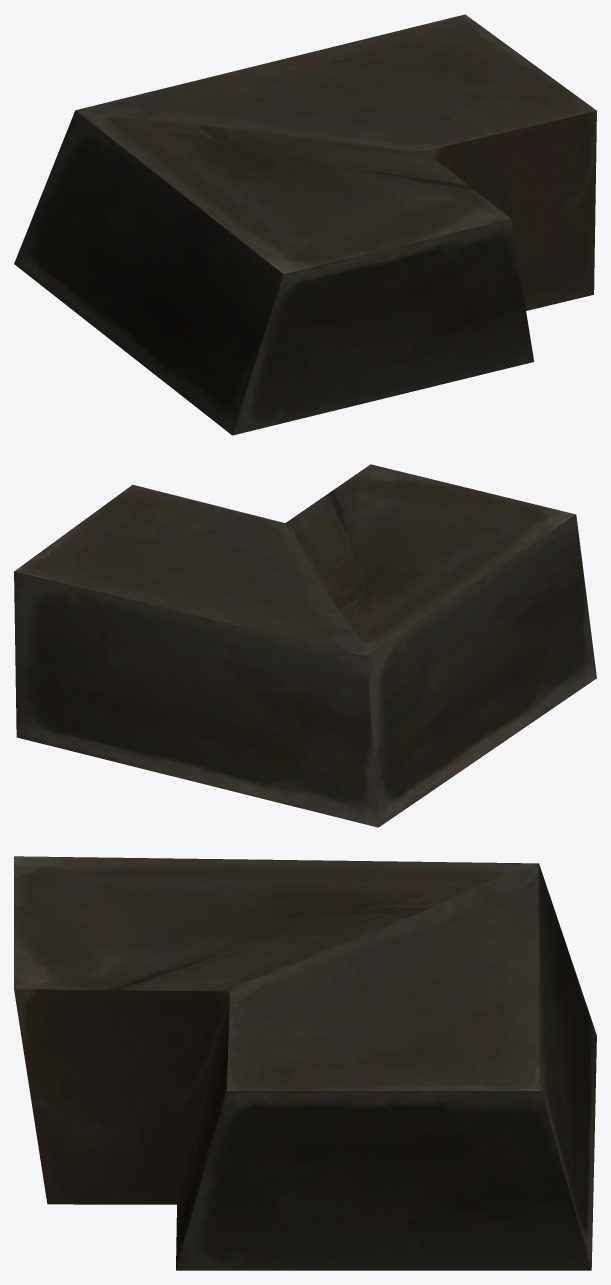
Rendered from fortress_cap_convex_02.fbx.
The picture shows the model from 3 angles, top to bottom: view 1: azimuth 30°, elevation 25°; view 2: azimuth 150°, elevation 25°; view 3: azimuth 270°, elevation 25°; orthographic projection. The views are drawn at different scales.
Parts seen in each view (by area): view 1: fortress_tileset/Cap_01_mat; view 2: fortress_tileset/Cap_01_mat; view 3: fortress_tileset/Cap_01_mat.
Boxes of the visible parts, left/top/right/bottom form: fortress_tileset/Cap_01_mat: left=14, top=14, right=596, bottom=435; fortress_tileset/Cap_01_mat: left=14, top=464, right=596, bottom=827; fortress_tileset/Cap_01_mat: left=14, top=856, right=596, bottom=1270.
Size of the model in its own units: 2.39 by 0.8442 by 2.3.
